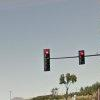Traffic light: (34, 39, 57, 81)
